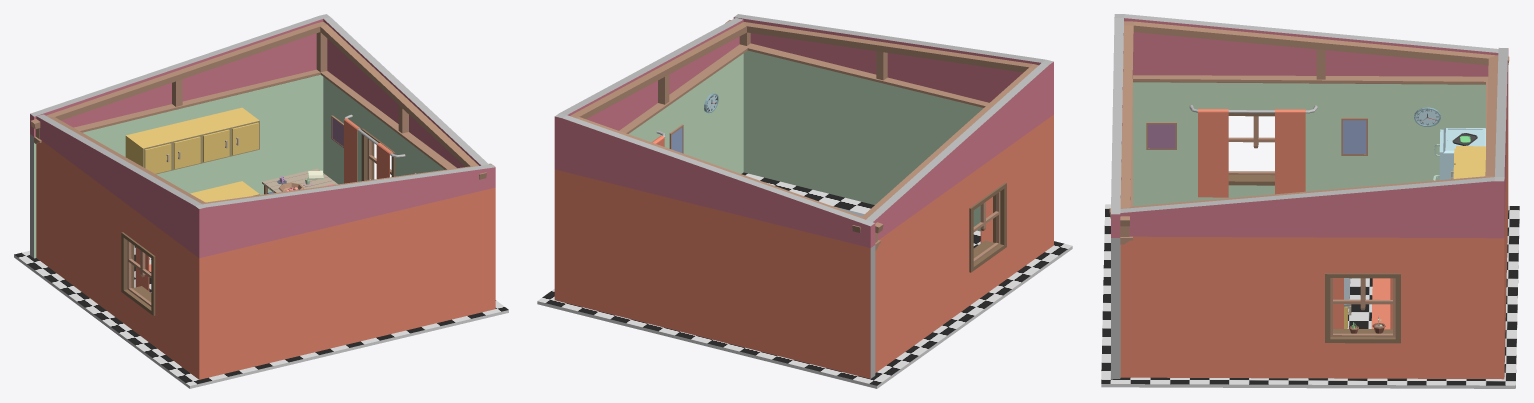
The model's file is kitchenComplete2.glb.
3 renders of one model, left to right at view 1: azimuth 30°, elevation 25°; view 2: azimuth 150°, elevation 25°; view 3: azimuth 270°, elevation 25°, orthographic. The views are drawn at different scales.
Parts seen in each view (by area): view 1: Wall.001, Wall, Floor, Sink.001, Winow, Winow.001, Sink.004, Table, Sink.002; view 2: Wall, Wall.001, Floor, Winow.001; view 3: Wall, Wall.001, Floor, Winow.001, Winow, Painting.001, Refrigerator, Sink.001, Plane.001, Circle.002.
Boxes of the visible parts, box(x1,y1,x2,y2) form: Wall.001: box(36, 114, 495, 379); Wall: box(30, 14, 488, 258); Floor: box(14, 246, 508, 388); Sink.001: box(126, 107, 259, 174); Winow: box(344, 114, 405, 183); Winow.001: box(121, 232, 155, 315); Sink.004: box(190, 181, 259, 202); Table: box(262, 168, 337, 194); Sink.002: box(125, 136, 238, 168); Wall: box(554, 18, 883, 378); Wall.001: box(725, 14, 1053, 372); Floor: box(537, 172, 1072, 388); Winow.001: box(969, 182, 1006, 272); Wall: box(1109, 48, 1508, 379); Wall.001: box(1111, 14, 1509, 378); Floor: box(1101, 204, 1519, 388); Winow.001: box(1189, 105, 1317, 197); Winow: box(1325, 273, 1400, 343); Painting.001: box(1146, 117, 1367, 155); Refrigerator: box(1433, 128, 1485, 180); Sink.001: box(1451, 146, 1485, 178); Plane.001: box(1371, 278, 1390, 329); Circle.002: box(1414, 107, 1440, 126).
Bounding box in the file's own units: 34.76 × 18 × 33.92.
Materials: 2 (2 with a texture image).
